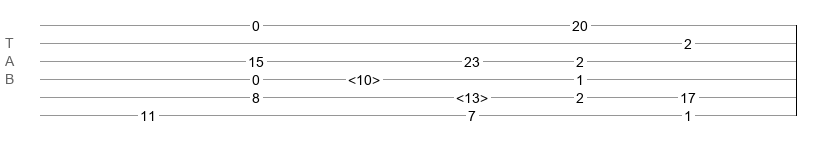0: (252, 72, 260, 82), (252, 18, 260, 28)
1: (576, 72, 584, 82), (684, 108, 692, 118)
11: (140, 108, 156, 118)
15: (248, 54, 264, 64)
17: (680, 90, 696, 100)
2: (576, 90, 584, 100), (576, 54, 584, 64), (684, 36, 692, 46)
20: (572, 18, 588, 28)
23: (464, 54, 480, 64)
7: (468, 108, 476, 118)
8: (252, 90, 260, 100)
harmonic: (348, 72, 380, 82), (456, 90, 488, 100)
